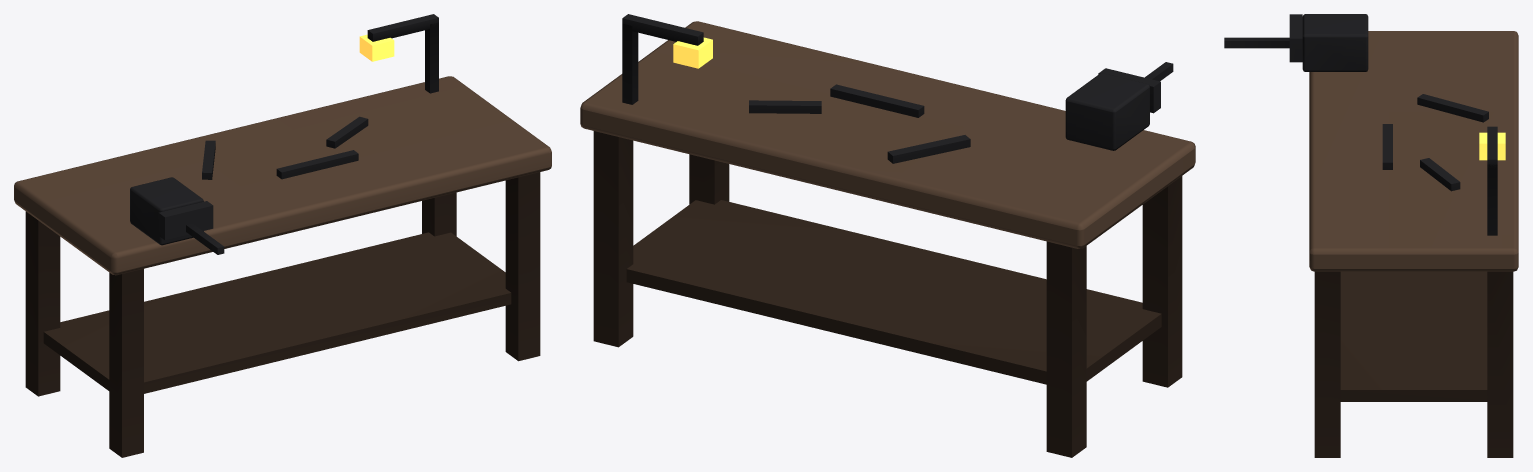
Rendered from workbench.glb.
3 renders of one model, left to right at view 1: azimuth 30°, elevation 25°; view 2: azimuth 150°, elevation 25°; view 3: azimuth 270°, elevation 25°, orthographic. The views are drawn at different scales.
Visible parts, largest first — view 1: Workbench; view 2: Workbench; view 3: Workbench.
Part boxes in pixels (x1=…): Workbench: x1=14, y1=14, x2=551, y2=457; Workbench: x1=580, y1=14, x2=1195, y2=457; Workbench: x1=1224, y1=14, x2=1518, y2=457.
Bounding box in the file's own units: 2 × 1.22 × 1.12.
